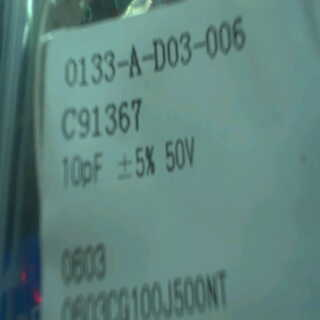10pF: (56, 146, 107, 194)
